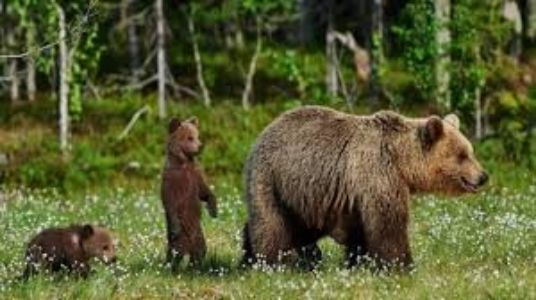bear: (246, 98, 489, 274), (151, 106, 219, 270), (24, 224, 123, 279)
